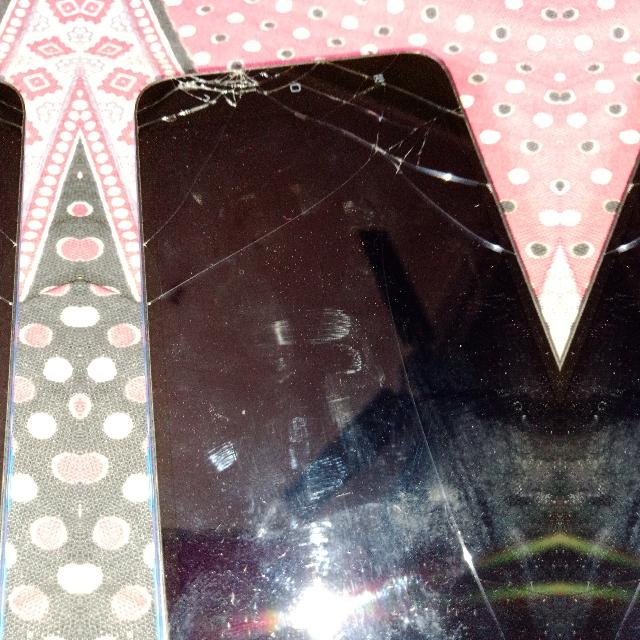phone_screen: (137, 54, 559, 639), (560, 159, 639, 639), (0, 83, 22, 593)
